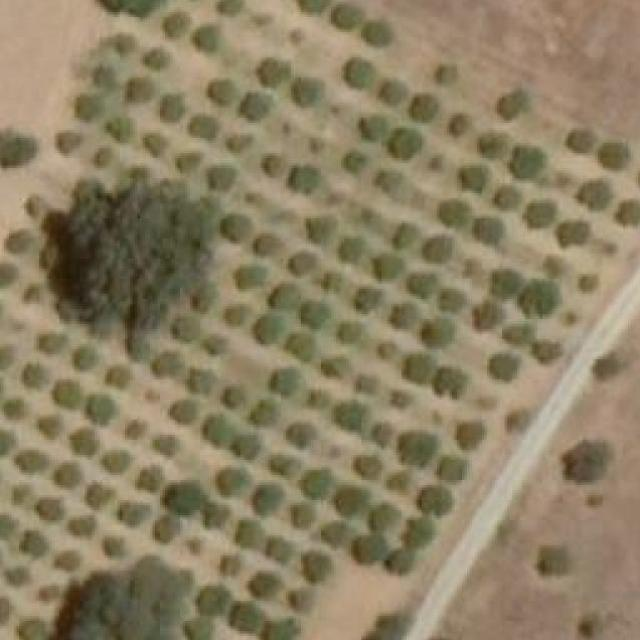Tree: (38, 181, 218, 325), (49, 555, 188, 640), (559, 438, 608, 481), (356, 611, 410, 640), (402, 430, 439, 470), (95, 0, 169, 20), (572, 178, 616, 211), (165, 480, 203, 518), (510, 143, 548, 178), (0, 131, 37, 166), (435, 364, 468, 402), (435, 198, 470, 232), (402, 518, 436, 552), (84, 390, 120, 422), (532, 546, 568, 578), (212, 468, 250, 498), (591, 352, 624, 386), (216, 214, 253, 244), (400, 352, 432, 386), (145, 352, 185, 379), (528, 339, 566, 367), (336, 400, 369, 432), (266, 368, 301, 398), (319, 520, 354, 550), (370, 500, 400, 535), (204, 412, 234, 446), (230, 518, 264, 548), (291, 163, 324, 193), (299, 468, 332, 498), (334, 488, 367, 518), (487, 352, 520, 382), (495, 90, 528, 120), (492, 272, 525, 302), (470, 299, 500, 332), (17, 448, 50, 478), (150, 518, 183, 548), (250, 483, 280, 516), (228, 601, 258, 634), (596, 145, 631, 173), (390, 128, 422, 158), (610, 198, 640, 230), (248, 400, 282, 428), (284, 250, 317, 278), (437, 286, 470, 314), (49, 376, 82, 404), (133, 465, 166, 493), (118, 502, 151, 530), (238, 90, 268, 120), (362, 15, 392, 45), (410, 92, 440, 122), (254, 314, 284, 344), (422, 234, 452, 264), (472, 216, 502, 246), (562, 128, 598, 153), (22, 530, 52, 560), (200, 586, 226, 619), (306, 550, 331, 584), (194, 24, 224, 52), (333, 2, 361, 32), (343, 58, 371, 88), (269, 284, 299, 312), (406, 271, 436, 299), (170, 316, 200, 344), (200, 331, 230, 359), (384, 472, 414, 500), (492, 185, 522, 213), (558, 218, 588, 246), (526, 200, 556, 228), (420, 485, 450, 513), (33, 334, 66, 359), (208, 163, 235, 193), (142, 44, 170, 72), (286, 334, 314, 362), (288, 420, 316, 448), (354, 452, 382, 480), (437, 457, 465, 485), (72, 341, 100, 369), (250, 570, 278, 598), (236, 264, 268, 288), (422, 319, 449, 347), (188, 366, 215, 394), (309, 214, 334, 244), (390, 304, 420, 329), (457, 420, 482, 450), (220, 131, 250, 156), (155, 433, 180, 463), (38, 495, 70, 518), (291, 80, 319, 106), (336, 236, 364, 262), (374, 250, 400, 278), (19, 362, 47, 388), (72, 427, 98, 455), (82, 66, 112, 90), (526, 284, 550, 314), (128, 78, 153, 106), (301, 301, 326, 329), (271, 453, 299, 478), (477, 133, 505, 158), (84, 483, 112, 508), (102, 450, 130, 475), (286, 503, 314, 528), (460, 168, 490, 191), (220, 384, 246, 410), (72, 96, 100, 120), (388, 224, 416, 248), (301, 388, 329, 412), (194, 281, 218, 309), (58, 460, 82, 488), (268, 540, 296, 564), (578, 611, 602, 639), (354, 287, 380, 312), (230, 433, 256, 458), (163, 7, 186, 35), (266, 621, 299, 640), (339, 148, 364, 173), (286, 591, 311, 616), (354, 372, 378, 398), (542, 254, 568, 278), (104, 364, 130, 388), (386, 550, 412, 574), (160, 98, 185, 122), (432, 62, 457, 86), (7, 232, 32, 256), (321, 354, 346, 378), (380, 168, 404, 193), (204, 503, 228, 528), (352, 540, 382, 560), (220, 304, 246, 327), (580, 272, 606, 295), (182, 618, 209, 640), (260, 58, 284, 82), (208, 78, 232, 102), (380, 80, 404, 104), (98, 538, 122, 562), (447, 113, 470, 138), (143, 128, 166, 153), (507, 322, 532, 345), (386, 388, 412, 410), (40, 412, 62, 438), (0, 599, 19, 629), (372, 420, 392, 448), (167, 402, 195, 422), (54, 131, 78, 154), (362, 116, 384, 141), (123, 418, 148, 440), (4, 566, 29, 588), (212, 0, 240, 19), (110, 33, 133, 56), (339, 322, 362, 345), (254, 232, 278, 254), (264, 153, 286, 176), (502, 410, 525, 432), (108, 118, 133, 138), (319, 272, 344, 292), (130, 337, 150, 362), (194, 116, 218, 136), (70, 516, 94, 536), (220, 554, 240, 578), (582, 490, 606, 510), (17, 621, 42, 640), (6, 394, 24, 420), (34, 582, 58, 600), (0, 430, 17, 455), (298, 0, 326, 15), (175, 153, 198, 171), (58, 550, 78, 570), (0, 344, 14, 372), (0, 264, 17, 286), (94, 148, 114, 166), (376, 342, 394, 362), (9, 485, 29, 503), (24, 196, 39, 216), (188, 536, 203, 554), (566, 309, 580, 327), (603, 242, 618, 256)
